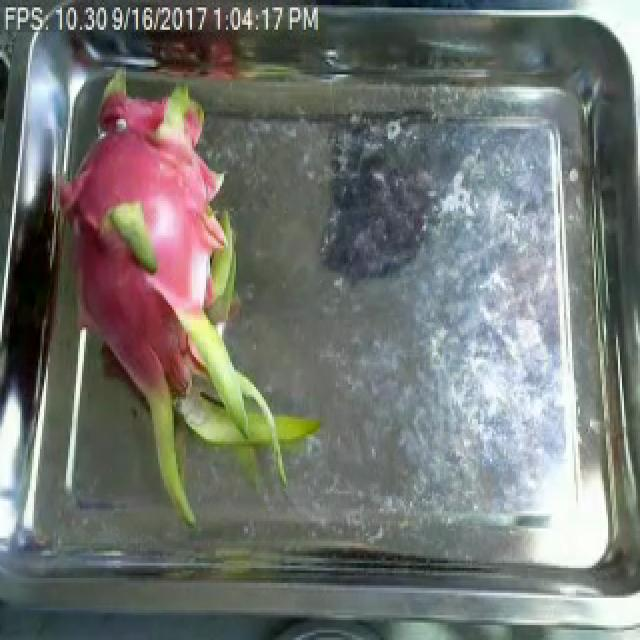fruit: (18, 104, 324, 524)
